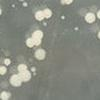white: (31, 46, 49, 62), (16, 68, 33, 83), (8, 74, 23, 88), (83, 12, 97, 26), (40, 5, 53, 20), (14, 62, 29, 73), (24, 36, 36, 49), (30, 29, 45, 39), (33, 9, 45, 21), (29, 36, 42, 47), (58, 0, 77, 7), (0, 90, 13, 100), (3, 56, 12, 67), (0, 65, 8, 77), (95, 7, 100, 22), (21, 1, 29, 9), (0, 6, 4, 20), (10, 2, 17, 10), (72, 26, 81, 32), (96, 30, 100, 43), (30, 66, 37, 73), (41, 22, 49, 28), (60, 14, 66, 21), (32, 72, 38, 79), (15, 0, 27, 2)
